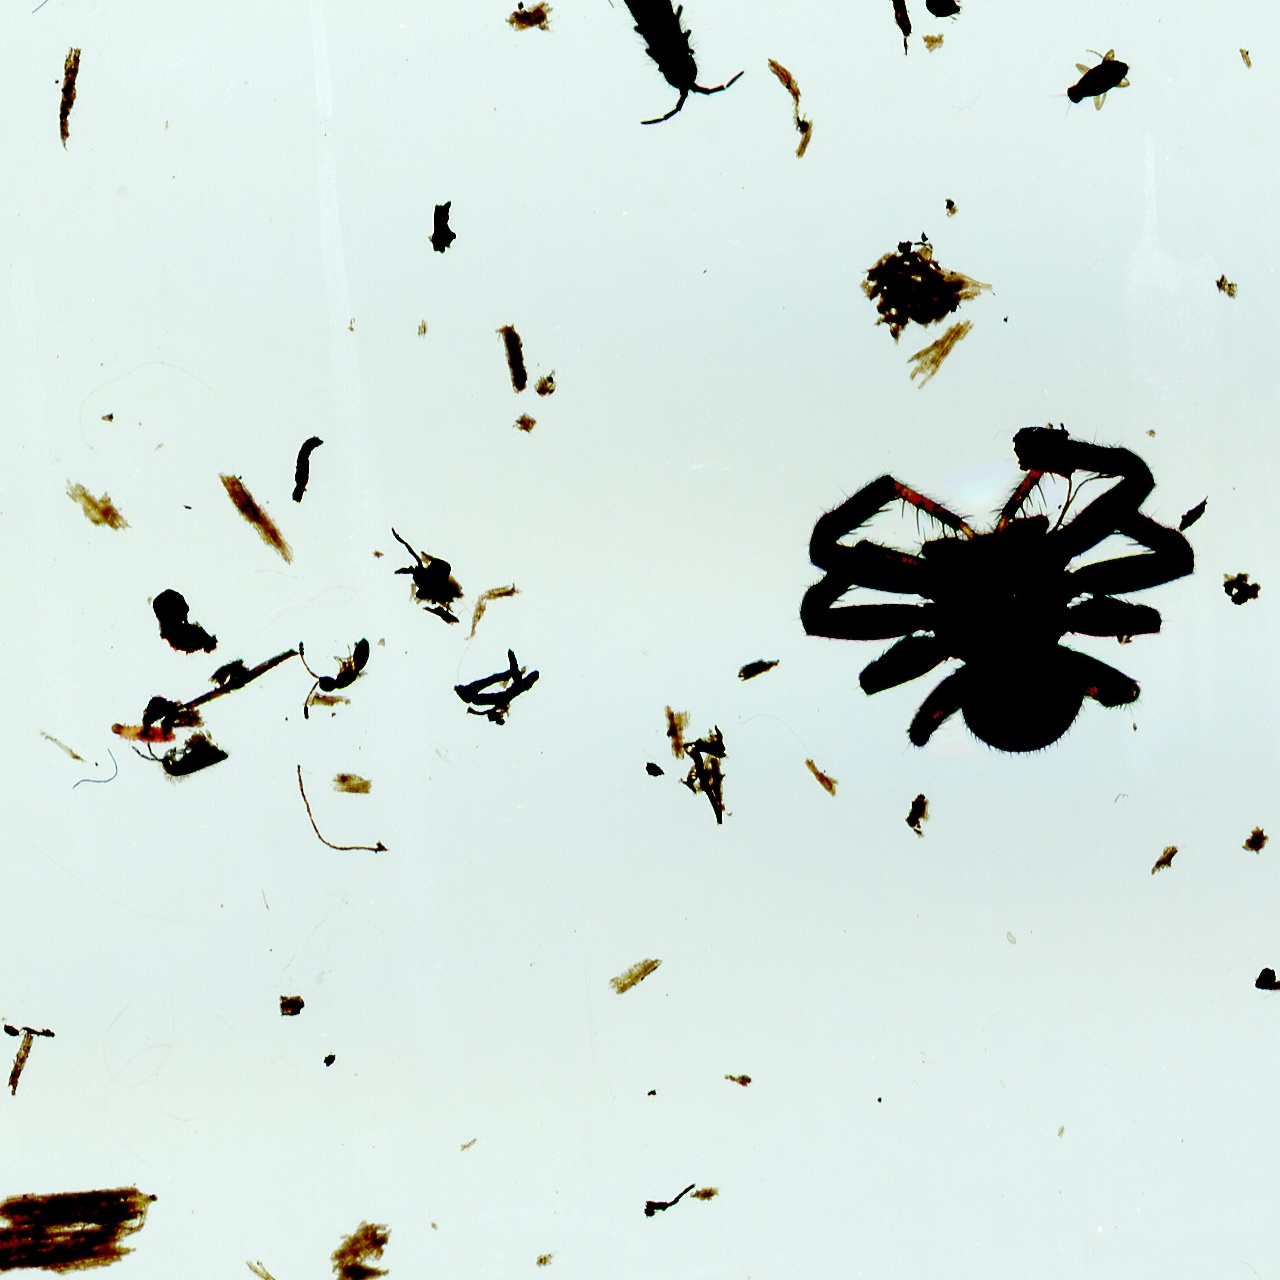arthropod: (753, 380, 1247, 812), (535, 0, 754, 138), (1028, 28, 1148, 138), (297, 634, 373, 721), (108, 719, 178, 748), (922, 0, 964, 25), (1119, 56, 1128, 61)
